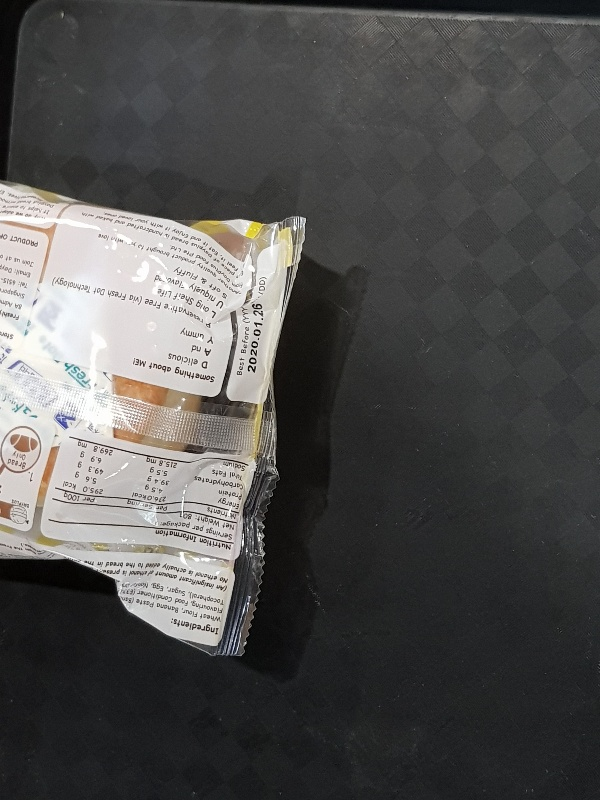Dayplus Banana: (1, 177, 307, 659)
